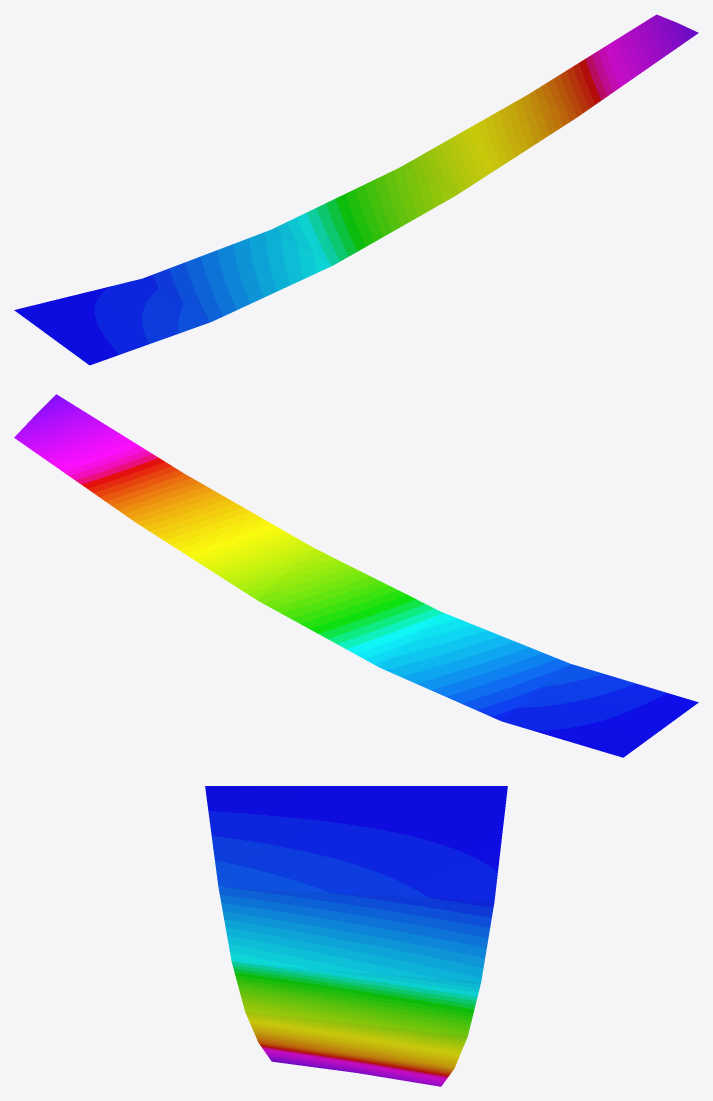
The picture shows the model from 3 angles, top to bottom: view 1: azimuth 30°, elevation 25°; view 2: azimuth 150°, elevation 25°; view 3: azimuth 270°, elevation 25°; orthographic projection. The views are drawn at different scales.
Visible parts, largest first — view 1: Elements; view 2: Elements; view 3: Elements.
Boxes of the visible parts, x1,y1,x2,y2 form: Elements: [14, 14, 698, 365]; Elements: [14, 394, 698, 757]; Elements: [205, 786, 507, 1086].
Size of the model in its own units: 1 by 0.256 by 0.2095.
Materials: 1 (1 with a texture image).
